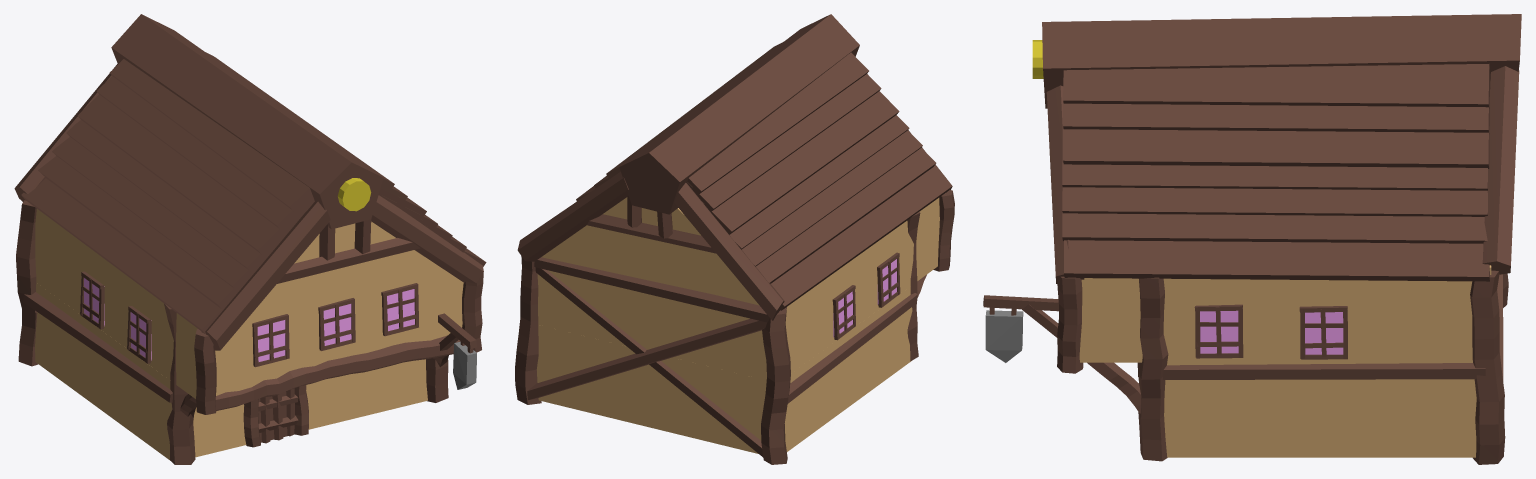
3 views of the same model, side by side, from view 1: azimuth 30°, elevation 25°; view 2: azimuth 150°, elevation 25°; view 3: azimuth 270°, elevation 25° (orthographic). The views are drawn at different scales.
Visible parts, largest first — view 1: node_MeshObject-1557174848-PolyPaper20, node_MeshObject-1875489600-PolyGem25; view 2: node_MeshObject-1557174848-PolyPaper20, node_MeshObject-1875489600-PolyGem25; view 3: node_MeshObject-1557174848-PolyPaper20, node_MeshObject-1875489600-PolyGem25.
Part boxes in pixels (left/top/right/bottom): node_MeshObject-1557174848-PolyPaper20: left=14, top=14, right=486, bottom=464; node_MeshObject-1875489600-PolyGem25: left=84, top=278, right=414, bottom=361; node_MeshObject-1557174848-PolyPaper20: left=515, top=14, right=954, bottom=464; node_MeshObject-1875489600-PolyGem25: left=833, top=259, right=896, bottom=337; node_MeshObject-1557174848-PolyPaper20: left=983, top=14, right=1521, bottom=464; node_MeshObject-1875489600-PolyGem25: left=1200, top=310, right=1343, bottom=354.
Bounding box in the file's own units: 0.6053 × 0.6153 × 0.8216.
